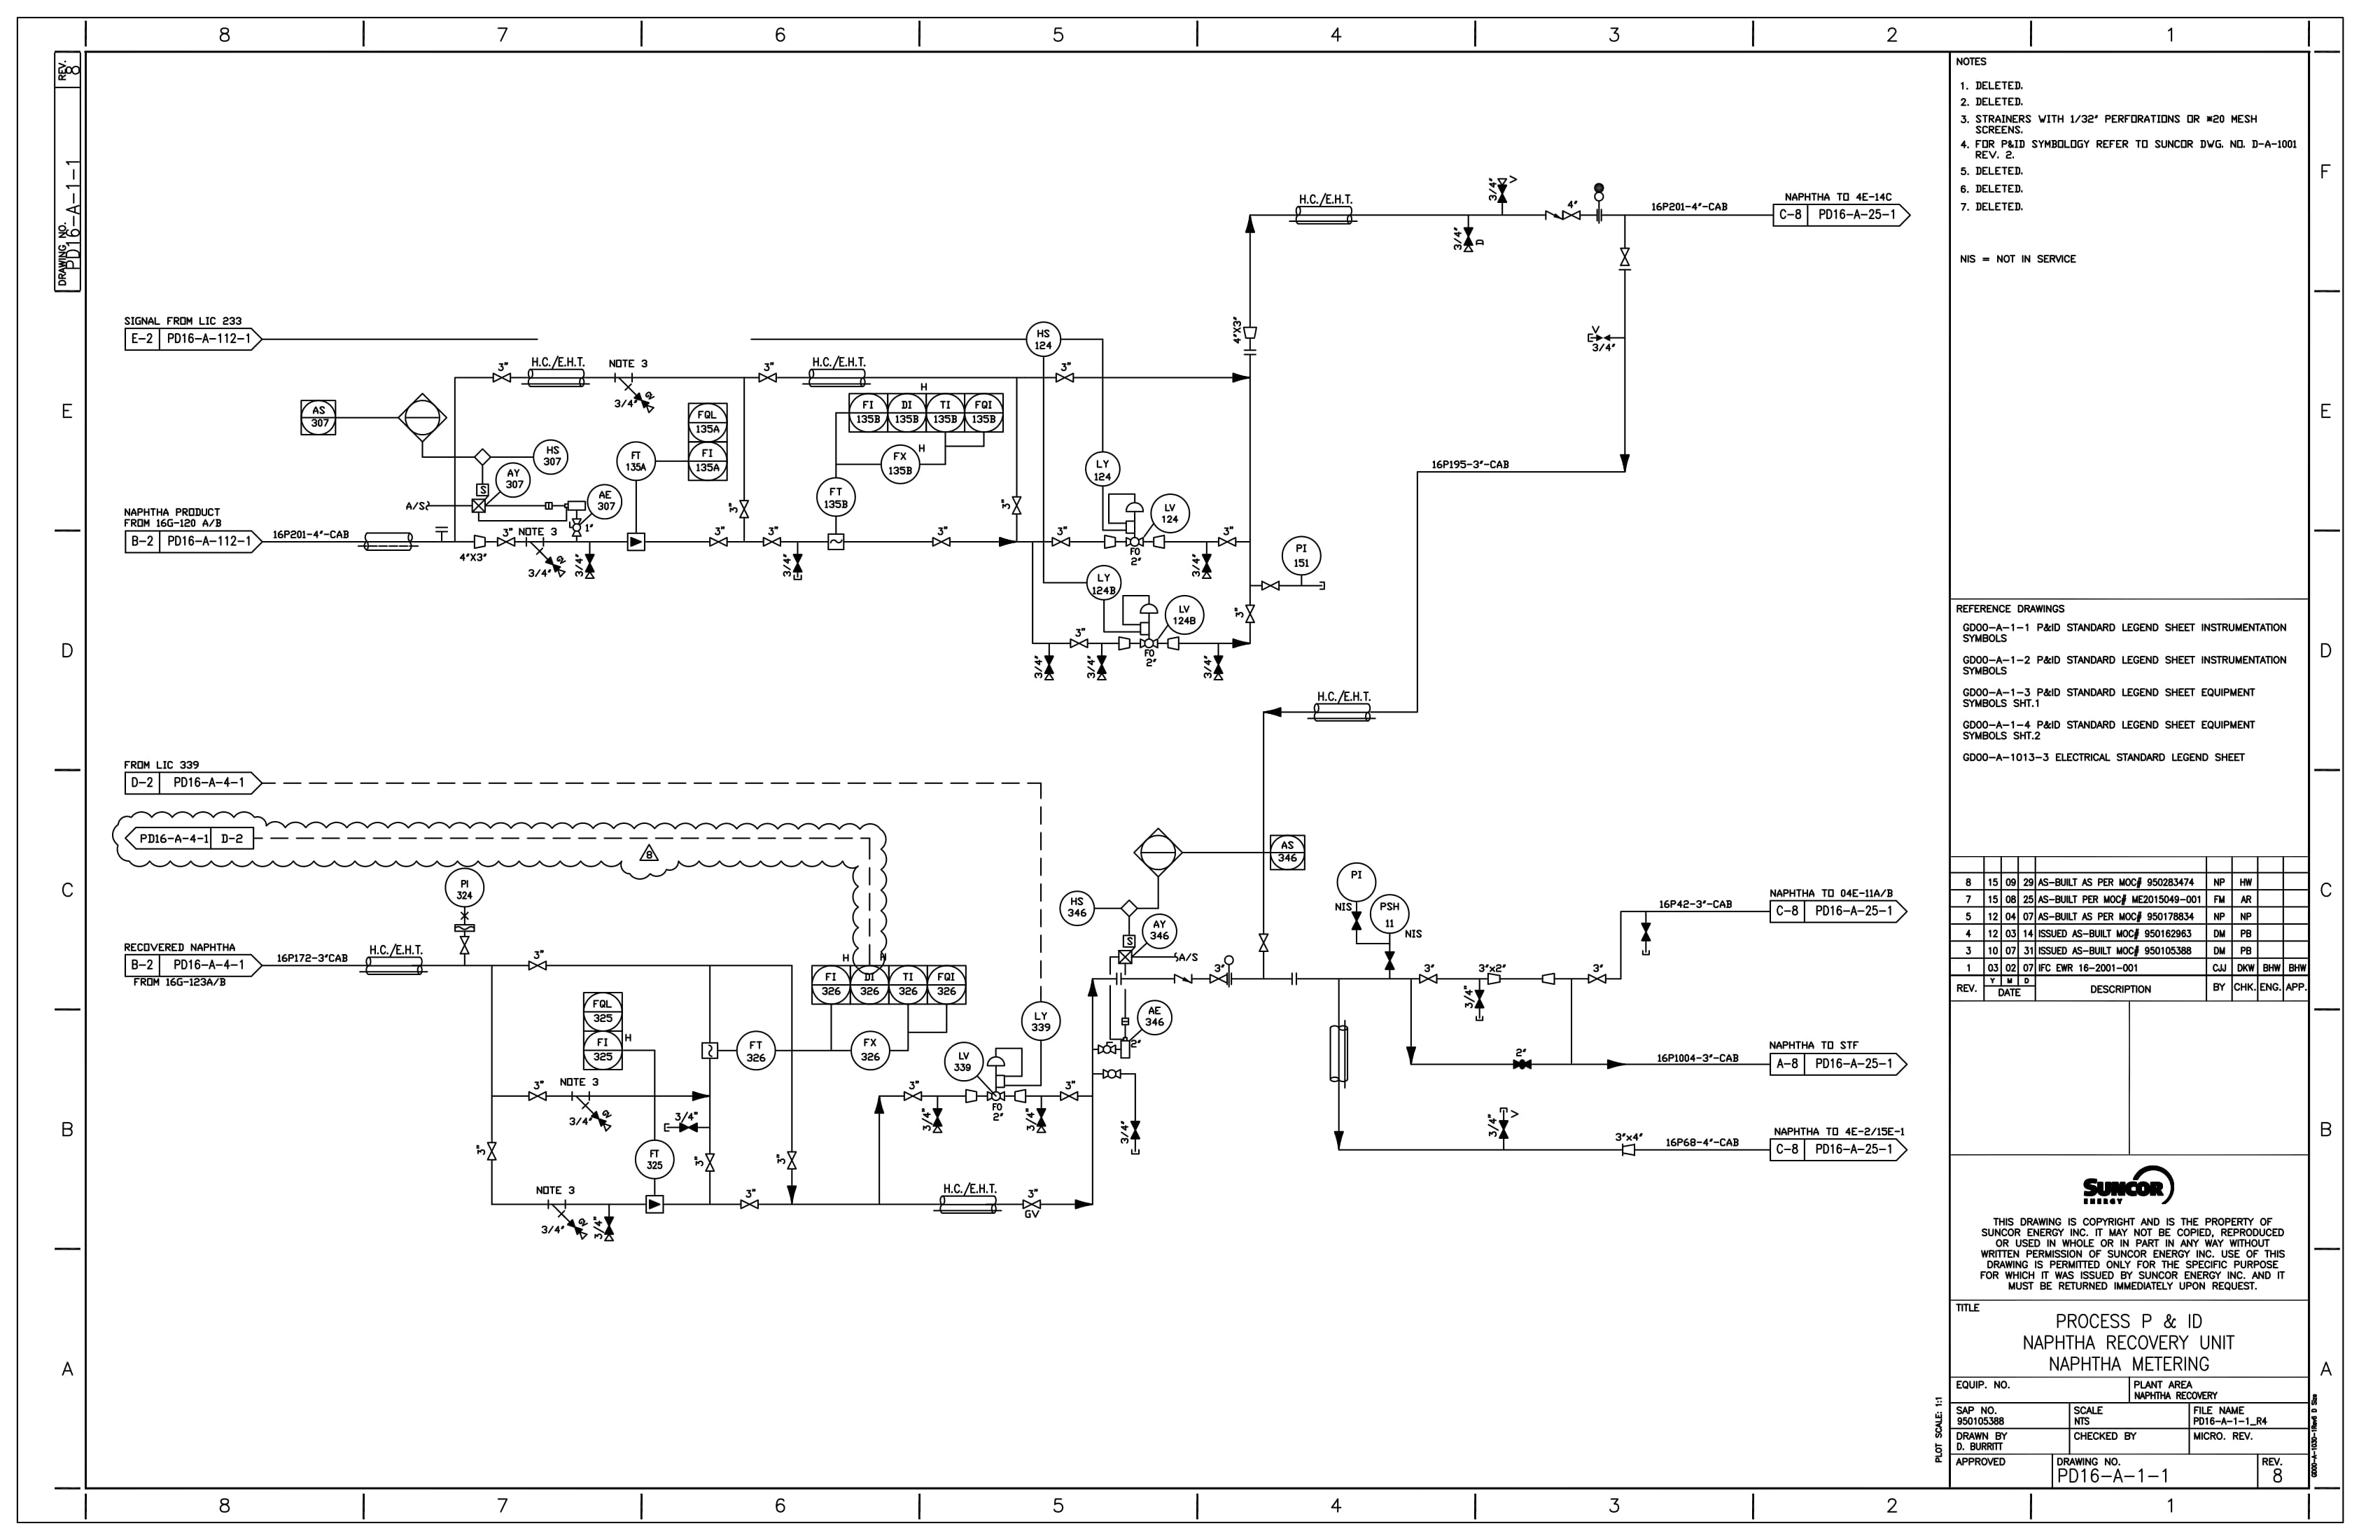DrainValve: (1495, 175, 1509, 210), (1096, 654, 1110, 685), (1044, 652, 1056, 685), (1213, 654, 1226, 682), (585, 550, 595, 581)
GateValve: (1010, 494, 1023, 519), (1244, 604, 1258, 626), (1069, 638, 1093, 650), (1049, 536, 1074, 548), (786, 1148, 798, 1172), (1218, 536, 1240, 548), (928, 538, 952, 548), (704, 1152, 716, 1172), (739, 498, 751, 519)
